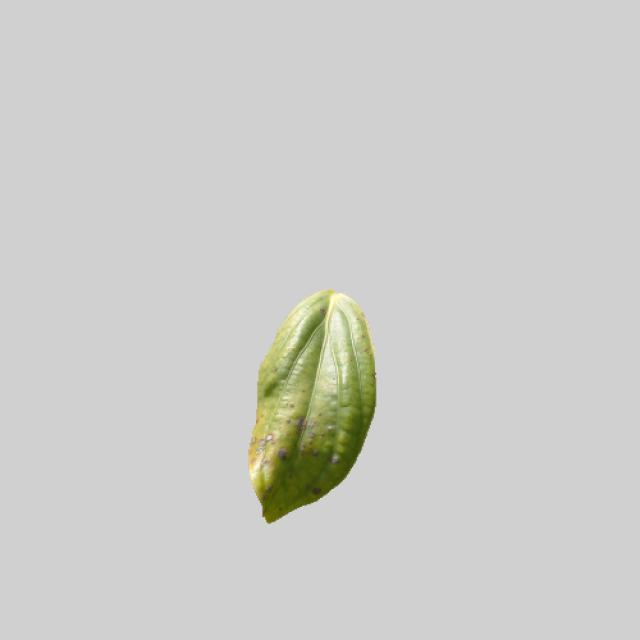yellow-mottle-virus: (237, 280, 380, 521)
